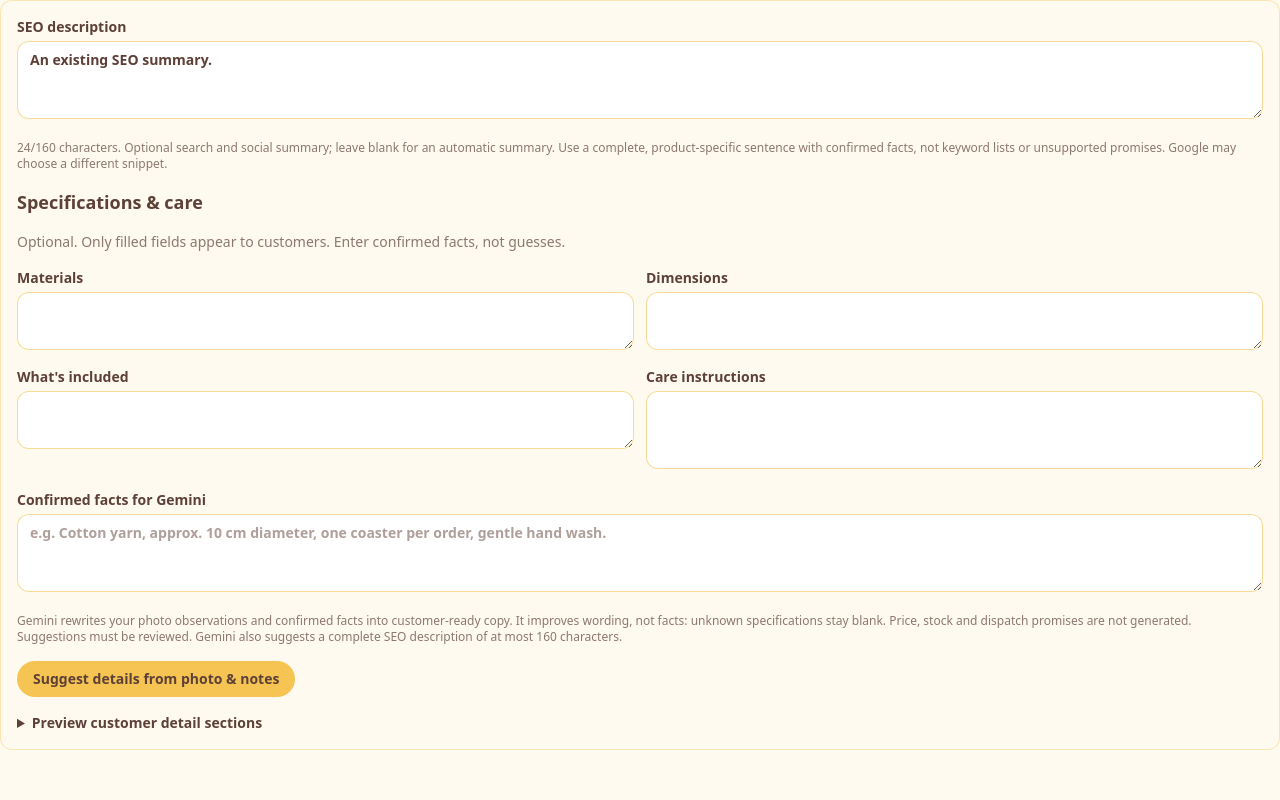
Test case: ProductDetailsEditor › shows failures and does not modify the draft
Click the button "Suggest details from photo & notes".
click(156, 679)  # box [17,661,295,697]
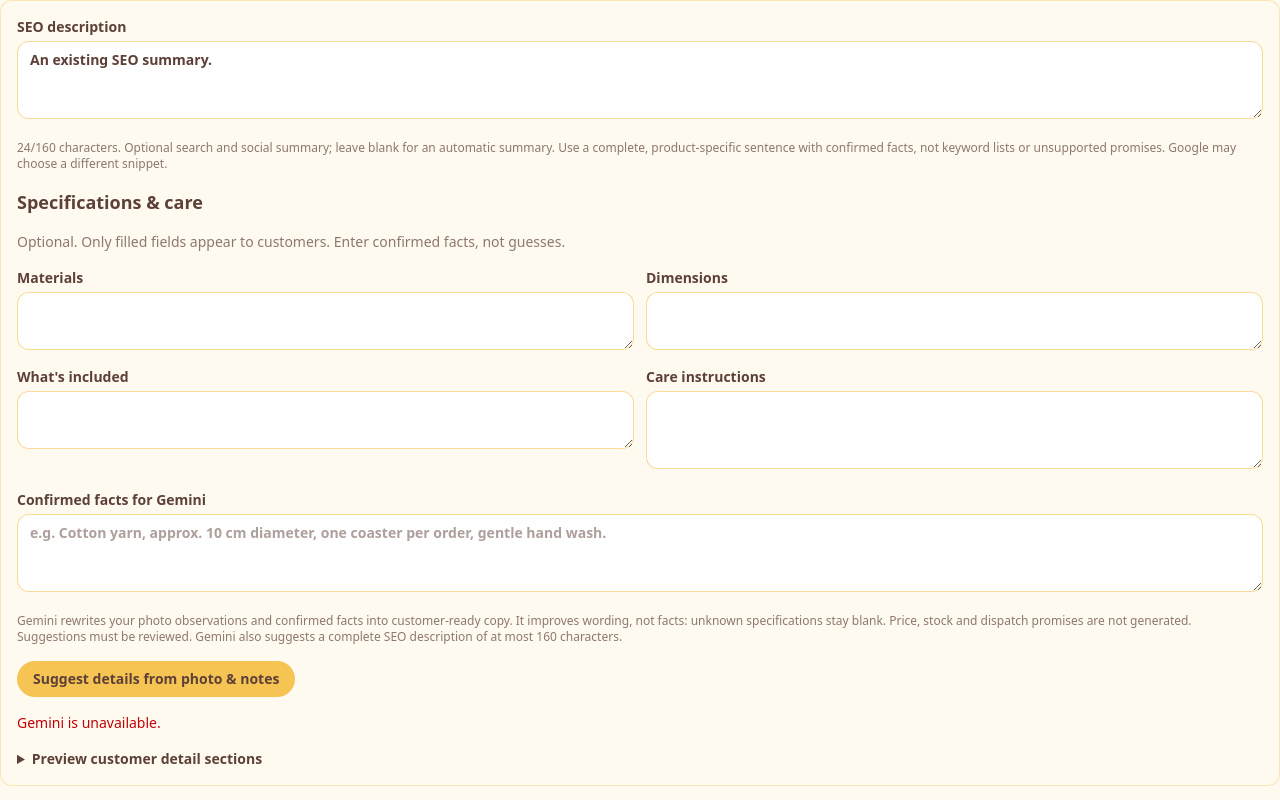
expect the message reads "Gemini is unavailable.": met, box [17,713,161,732]
